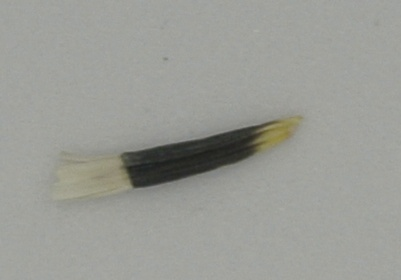เมล็ดดีติดกัน: (50, 113, 304, 209)
